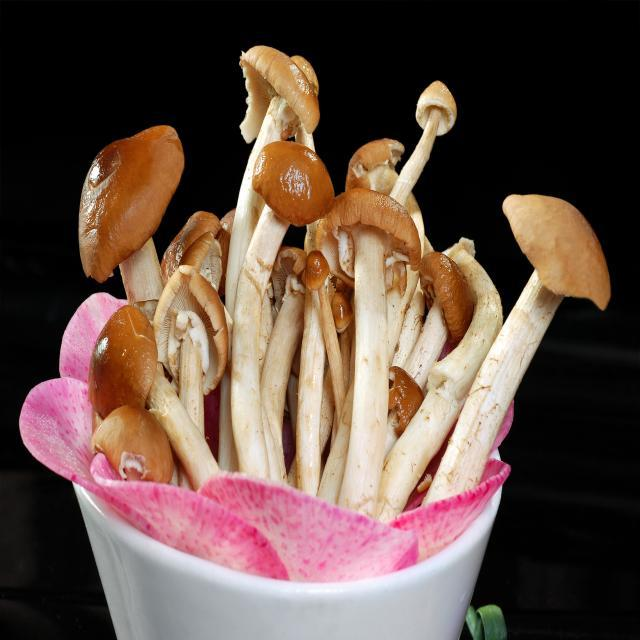Agrocybe aegerita: (77, 42, 611, 519)
